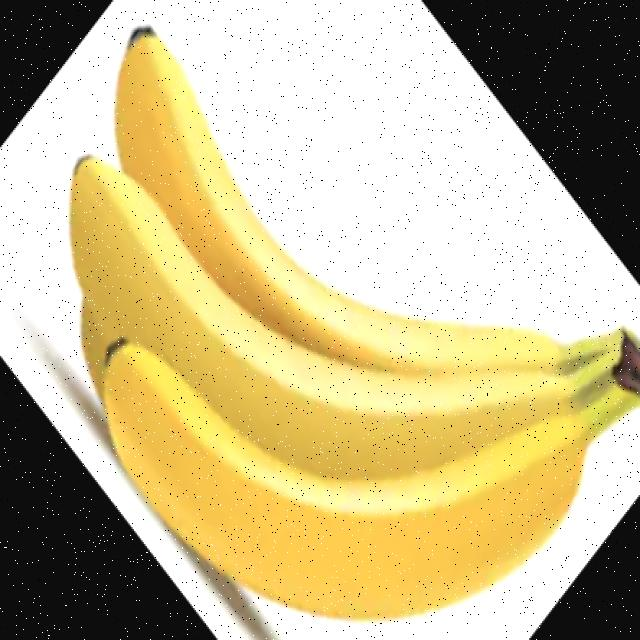god quality banana: (69, 30, 640, 619)
